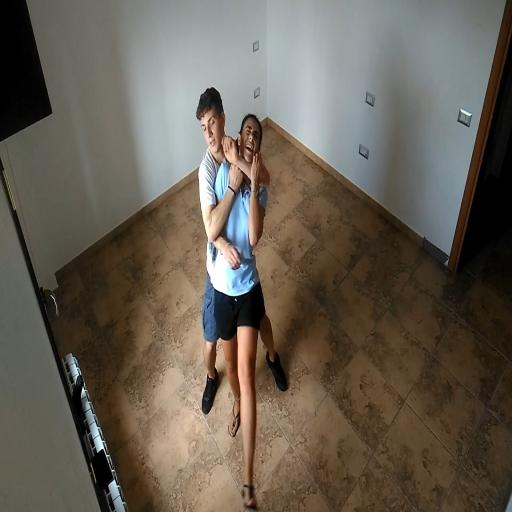violencia: (176, 79, 295, 512)
